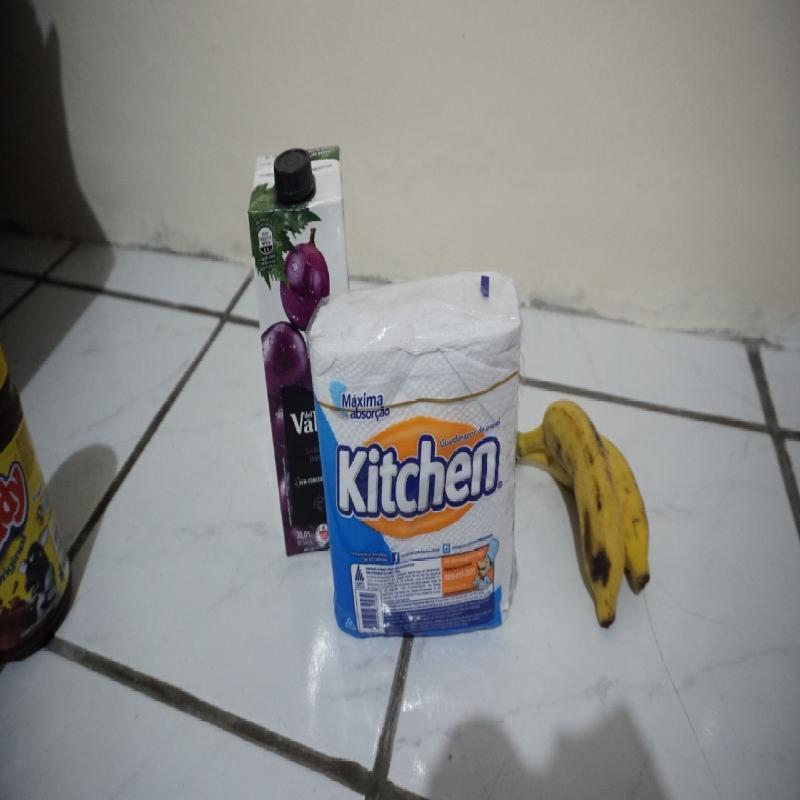Banana: (520, 397, 653, 627)
Chocolate Powder: (0, 344, 74, 664)
Napkin: (303, 264, 527, 640)
